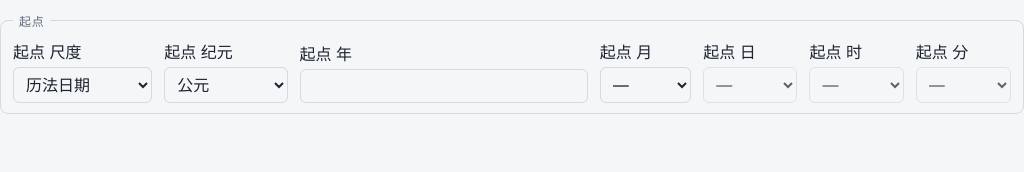
Test: TimeInput (structured) › civil: down to the minute auto-detects minute precision
Type "2026" into the number field labelled "起点 年" at {"x": 444, "y": 86}, box [300,69,588,103]
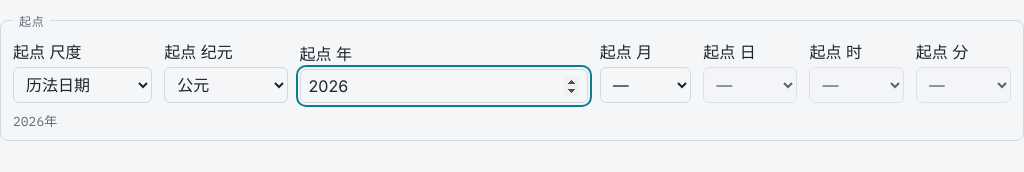
Select "6" in the dropdown labelled "起点 月" at {"x": 645, "y": 85}, box [600,67,691,103]
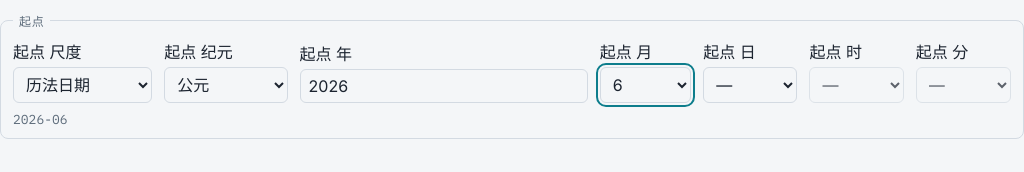
Select "21" in the dropdown labelled "起点 日" at {"x": 750, "y": 85}, box [703,67,797,103]
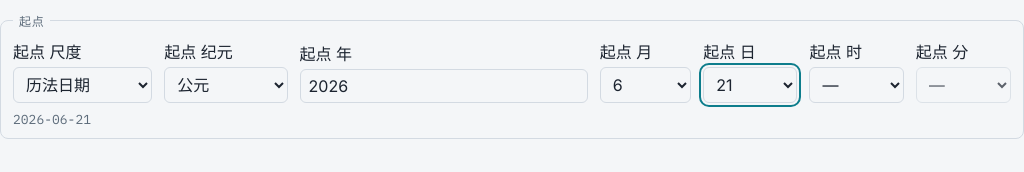
Select "15" in the dropdown labelled "起点 时" at {"x": 857, "y": 85}, box [809,67,904,103]
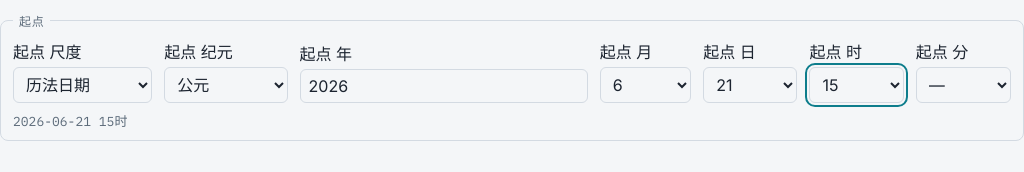
Select "30" in the dropdown labelled "起点 分" at {"x": 963, "y": 85}, box [916,67,1011,103]
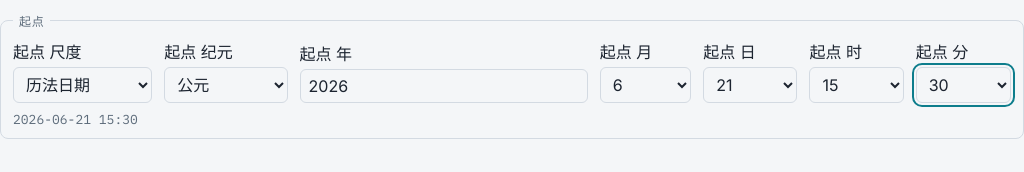
Now the text "2026-06-21 15:30" is shown, box [13,111,138,128]
